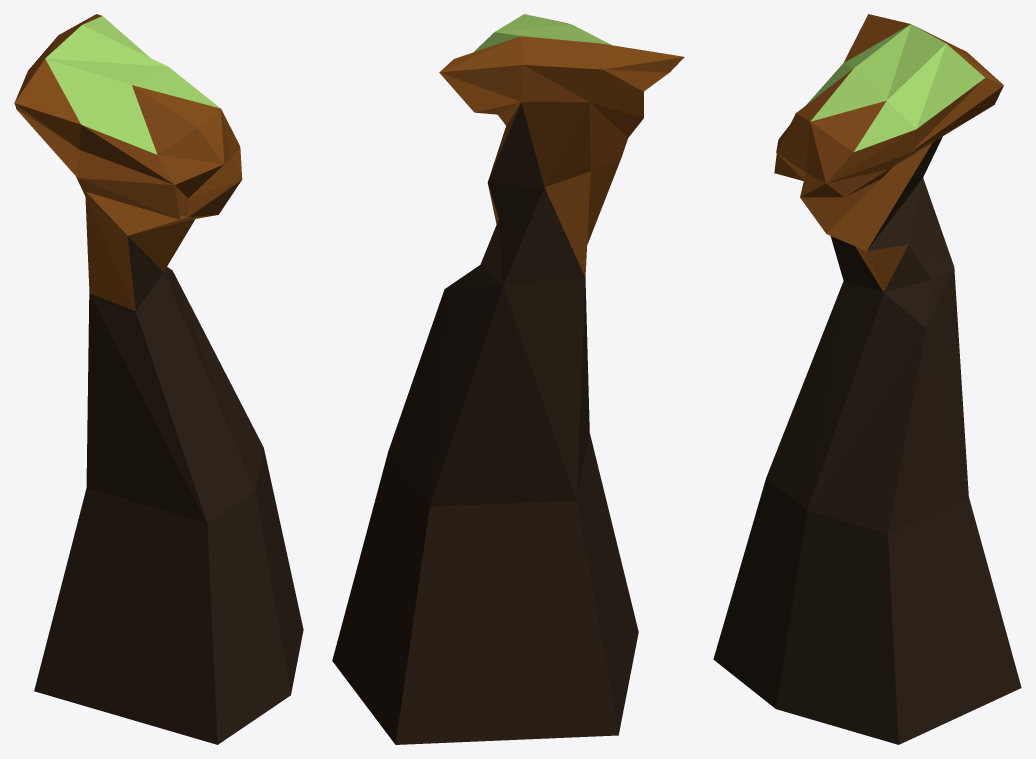
Rendered from Island_B01_Flat2_Light_Model.fbx.
The picture shows the model from 3 angles, left to right: view 1: azimuth 30°, elevation 25°; view 2: azimuth 150°, elevation 25°; view 3: azimuth 270°, elevation 25°; orthographic projection. The views are drawn at different scales.
Visible parts, largest first — view 1: Flat_03; view 2: Flat_03; view 3: Flat_03.
Boxes of the visible parts, x1=… form: Flat_03: x1=14, y1=14, x2=303, y2=744; Flat_03: x1=332, y1=14, x2=684, y2=744; Flat_03: x1=713, y1=14, x2=1021, y2=744.
Bounding box in the file's own units: 16.17 × 32.14 × 14.74.
